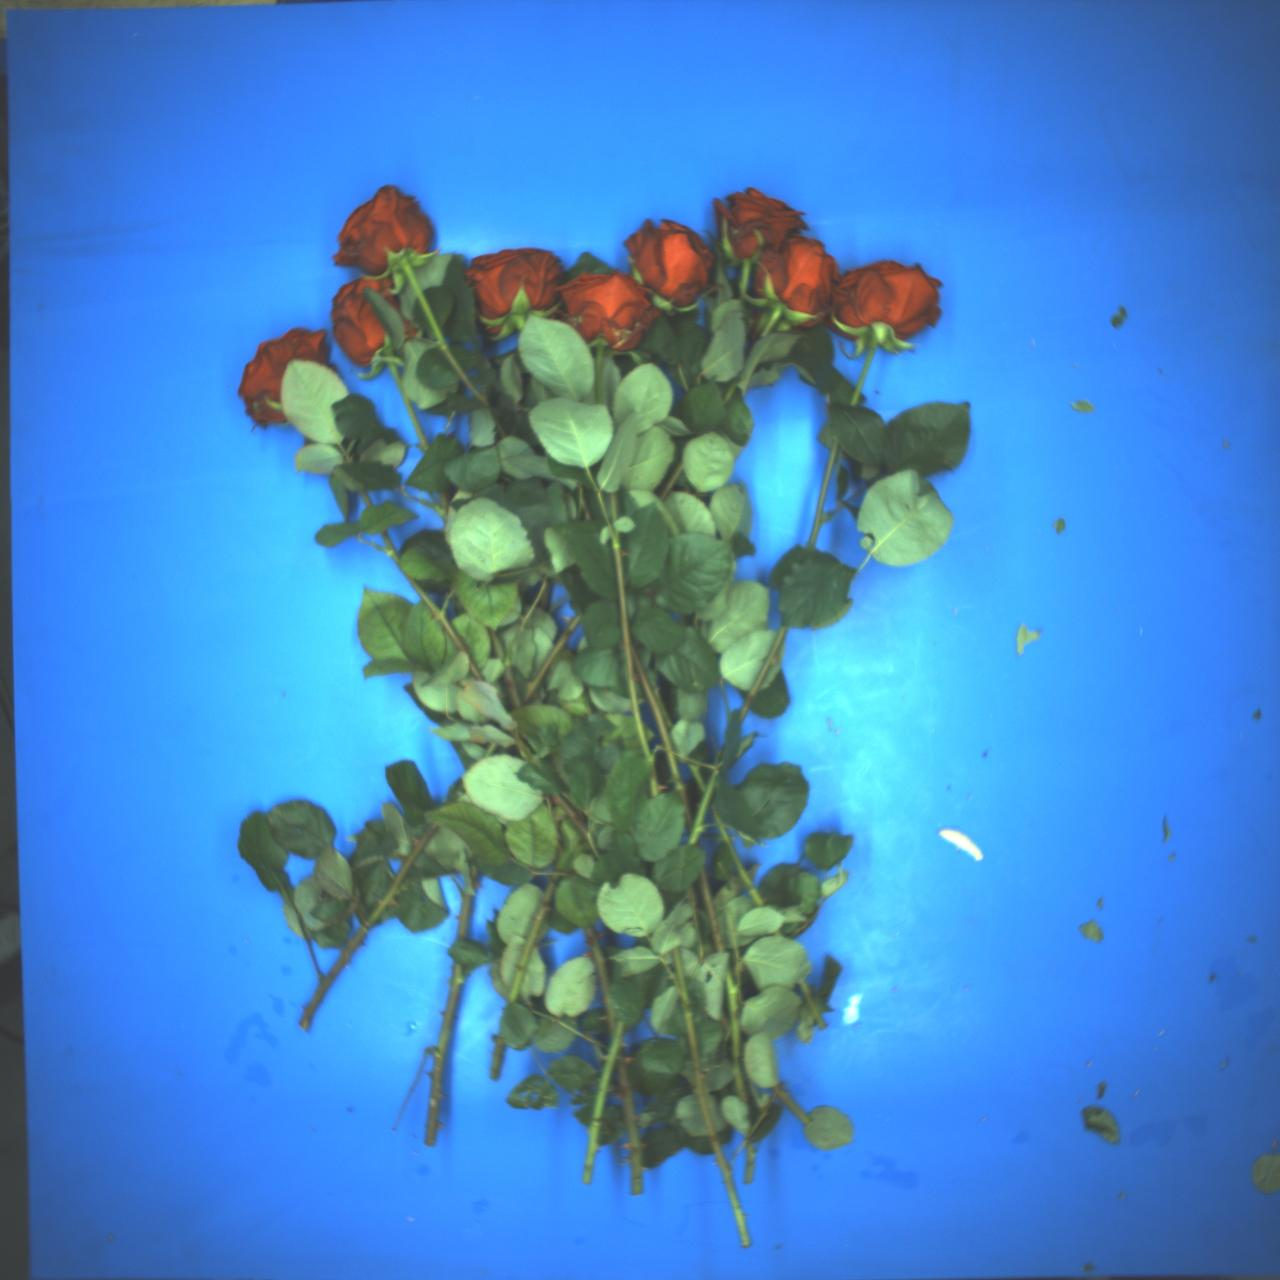Stem: (295, 822, 438, 1032), (662, 946, 753, 1251), (393, 256, 492, 414), (606, 526, 660, 798), (376, 530, 471, 658), (420, 962, 467, 1149), (578, 1019, 628, 1187), (504, 872, 564, 1005), (519, 611, 583, 707), (708, 808, 765, 910), (733, 625, 791, 723), (626, 639, 675, 753), (580, 924, 627, 1037), (612, 1046, 647, 1196), (386, 361, 431, 454), (721, 964, 750, 1105), (808, 437, 842, 545), (661, 749, 701, 833), (551, 791, 601, 851), (687, 769, 722, 847), (695, 869, 726, 954), (771, 1082, 813, 1128), (850, 342, 878, 408), (796, 981, 829, 1030), (655, 457, 687, 499), (501, 668, 524, 712), (484, 626, 510, 665), (652, 686, 674, 728), (489, 1035, 508, 1082), (757, 311, 781, 342), (688, 761, 709, 795), (463, 655, 486, 686), (457, 896, 472, 940), (593, 349, 605, 404), (720, 377, 740, 406), (440, 486, 452, 525), (744, 1144, 756, 1185), (479, 741, 499, 764), (738, 264, 750, 292), (611, 493, 619, 524), (360, 490, 373, 506), (383, 346, 394, 358), (774, 930, 783, 937)
flower: (219, 302, 343, 437), (542, 245, 670, 370), (313, 175, 442, 292), (614, 200, 729, 320), (699, 161, 817, 275), (741, 222, 852, 335), (314, 265, 421, 374), (822, 258, 946, 342), (463, 239, 574, 324)
